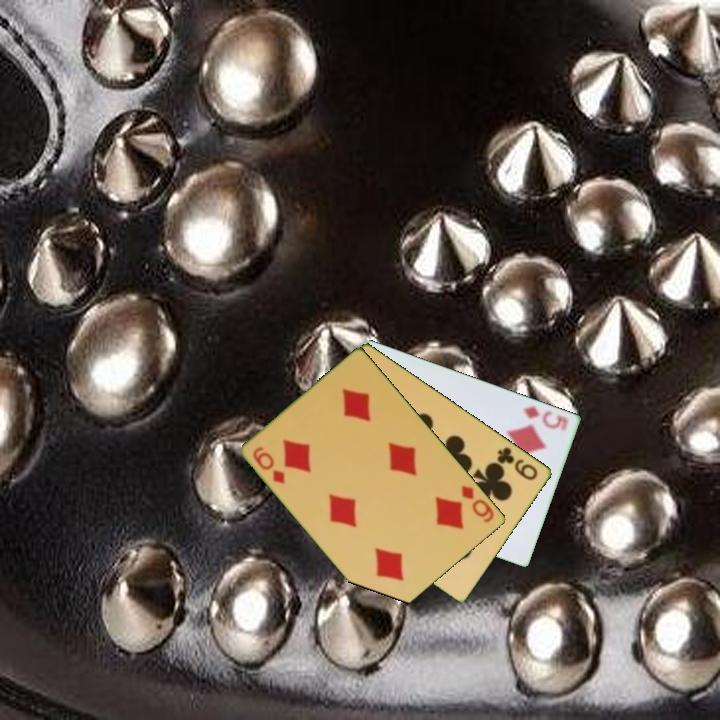5d: (520, 402, 572, 433)
6d: (458, 482, 497, 525), (250, 443, 288, 487)
9c: (494, 443, 541, 483)
